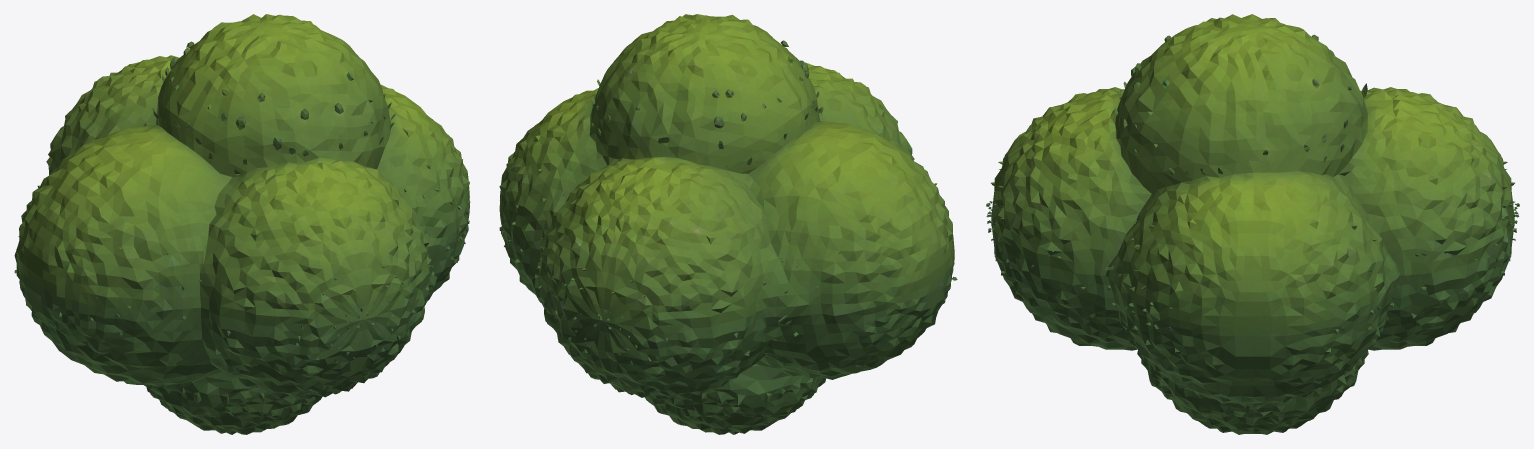
The model's file is bush_cluster.glb.
3 views of the same model, side by side, from view 1: azimuth 30°, elevation 25°; view 2: azimuth 150°, elevation 25°; view 3: azimuth 270°, elevation 25° (orthographic). The views are drawn at different scales.
Parts seen in each view (by area): view 1: tripo_node_13ff9bc2-a36f-44ef-9149-ba61607b5ec7; view 2: tripo_node_13ff9bc2-a36f-44ef-9149-ba61607b5ec7; view 3: tripo_node_13ff9bc2-a36f-44ef-9149-ba61607b5ec7.
Part boxes in pixels (left/top/right/bottom): tripo_node_13ff9bc2-a36f-44ef-9149-ba61607b5ec7: left=14, top=14, right=470, bottom=434; tripo_node_13ff9bc2-a36f-44ef-9149-ba61607b5ec7: left=499, top=14, right=957, bottom=434; tripo_node_13ff9bc2-a36f-44ef-9149-ba61607b5ec7: left=986, top=14, right=1519, bottom=434.
Size of the model in its own units: 0.938 by 0.8307 by 0.9926.
1 material, 1 textured.
